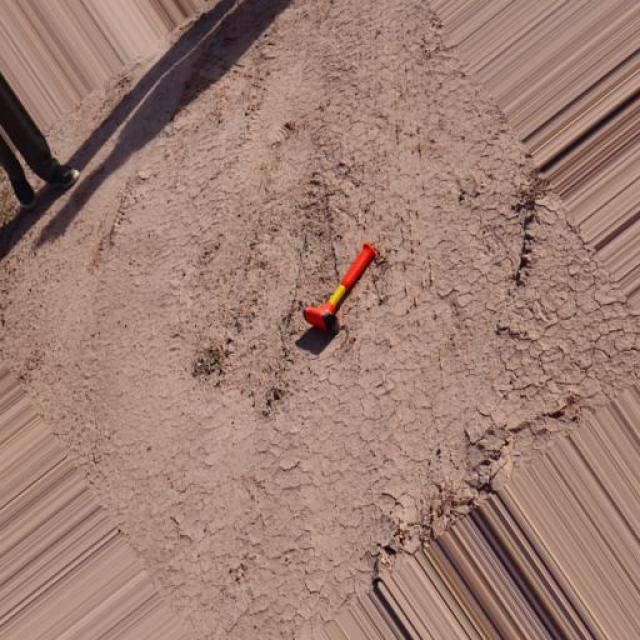mallet: (302, 241, 378, 334)
